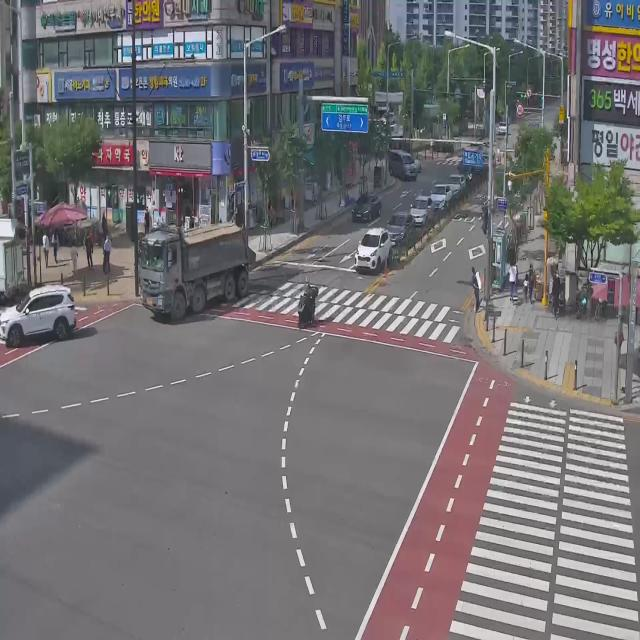Car: (0, 284, 77, 348), (385, 208, 418, 269), (354, 226, 392, 272), (405, 186, 437, 235), (387, 150, 417, 182), (352, 192, 382, 222), (433, 173, 451, 210)
Motorcycle: (296, 277, 320, 330)
Truck: (138, 212, 256, 328)
